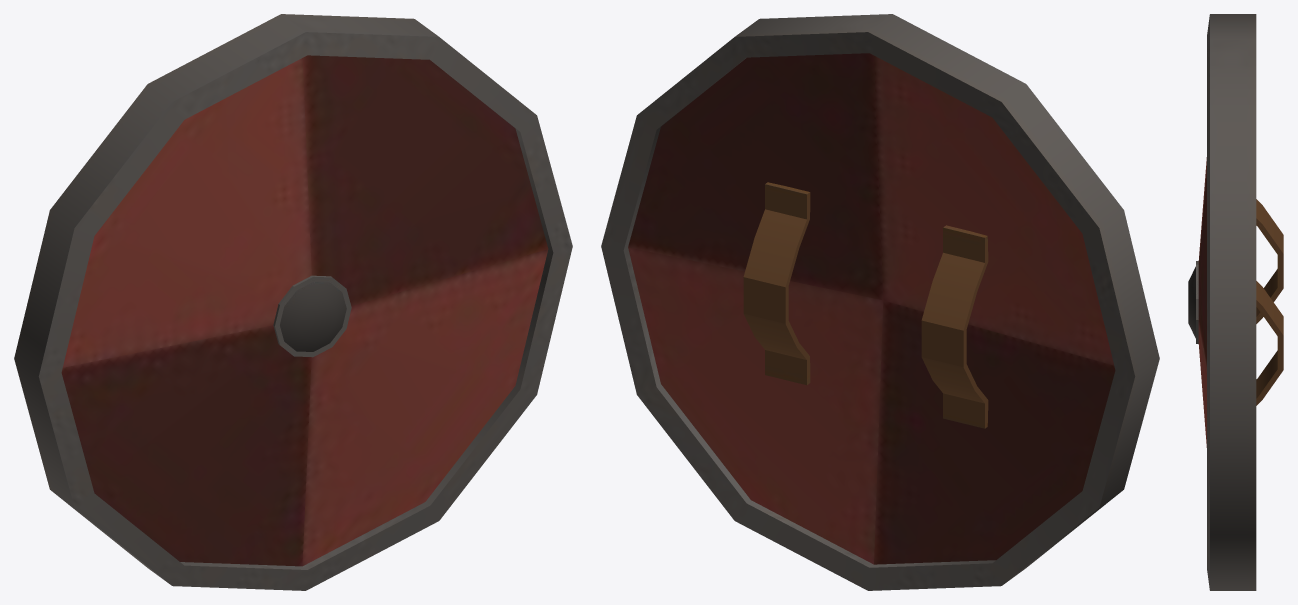
File: Round Shield_Red.fbx
3 views of the same model, side by side, from view 1: azimuth 30°, elevation 25°; view 2: azimuth 150°, elevation 25°; view 3: azimuth 270°, elevation 25° (orthographic). The views are drawn at different scales.
Visible parts, largest first — view 1: Round Shield_Red_Baked; view 2: Round Shield_Red_Baked; view 3: Round Shield_Red_Baked.
Boxes of the visible parts, x1,y1,x2,y2 form: Round Shield_Red_Baked: (14,14,572,590); Round Shield_Red_Baked: (601,14,1159,590); Round Shield_Red_Baked: (1188,14,1283,590).
Bounding box in the file's own units: 60 × 60 × 9.87.
Materials: 1 (1 with a texture image).
